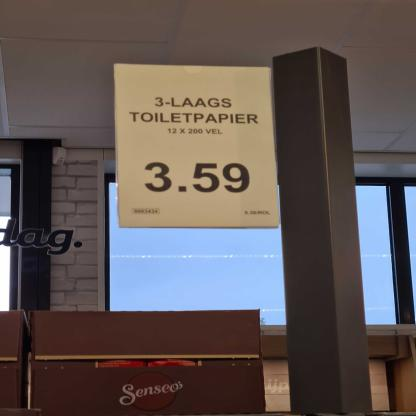prtg: (115, 64, 280, 229)
